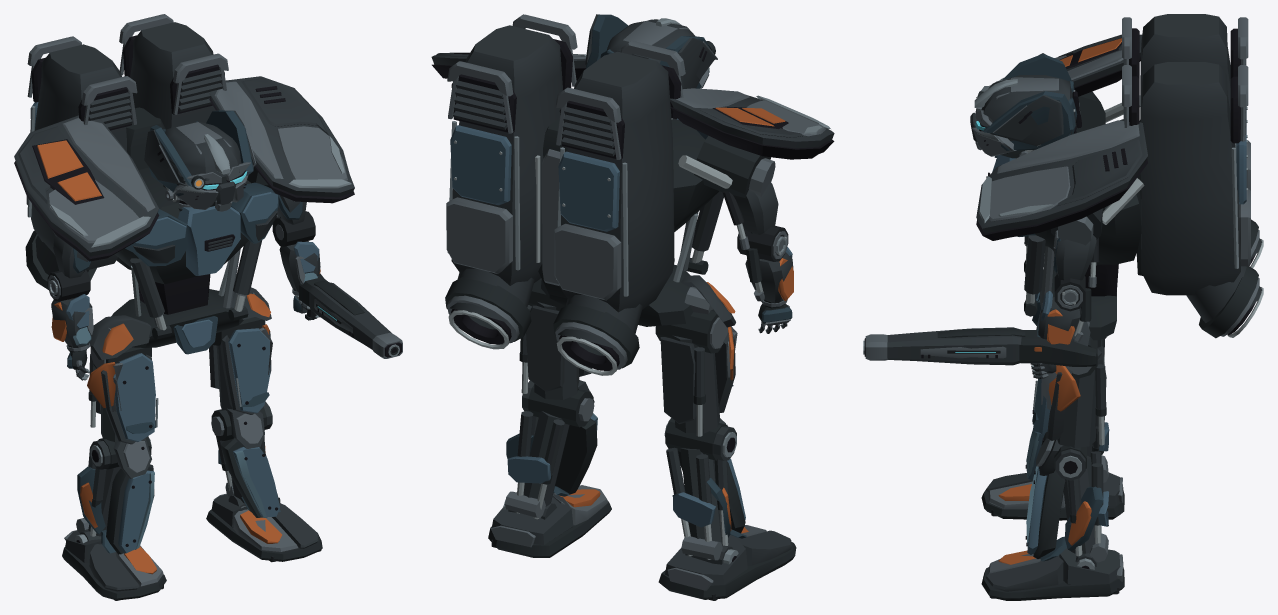
File: m07-cangyan-v5.glb
3 renders of one model, left to right at view 1: azimuth 30°, elevation 25°; view 2: azimuth 150°, elevation 25°; view 3: azimuth 270°, elevation 25°, orthographic. The views are drawn at different scales.
Parts seen in each view (by area): view 1: M07_Upper_armor, M07_Shin_L_armor, M07_Thigh_L_armor, M07_Shin_R_armor, M07_Thigh_R_armor, M07_Foot_R_armor, M07_Foot_L_armor, M07_Rifle_armor; view 2: M07_Upper_armor, M07_Shin_R_armor, M07_Shin_L_armor, M07_Thigh_L_armor, M07_Foot_L_armor, M07_Foot_R_armor, M07_Thigh_R_armor; view 3: M07_Upper_armor, M07_Shin_R_armor, M07_Rifle_armor, M07_Foot_R_armor, M07_Thigh_R_armor, M07_Foot_L_armor, M07_Shin_L_armor.
Part boxes in pixels (x1,y1,x2,y2): M07_Upper_armor: (14,14,354,380); M07_Shin_L_armor: (76,436,154,554); M07_Thigh_L_armor: (87,347,158,444); M07_Shin_R_armor: (211,401,279,517); M07_Thigh_R_armor: (209,317,272,414); M07_Foot_R_armor: (206,493,322,562); M07_Foot_L_armor: (62,529,166,600); M07_Rifle_armor: (293,274,402,358); M07_Upper_armor: (431,14,834,375); M07_Shin_R_armor: (504,380,597,519); M07_Shin_L_armor: (664,418,745,560); M07_Thigh_L_armor: (655,309,737,436); M07_Foot_L_armor: (658,525,796,600); M07_Foot_R_armor: (488,485,611,557); M07_Thigh_R_armor: (519,278,592,399); M07_Upper_armor: (970,14,1263,346); M07_Shin_R_armor: (1025,438,1108,562); M07_Rifle_armor: (863,327,1096,378); M07_Foot_R_armor: (981,536,1124,600); M07_Thigh_R_armor: (1032,336,1106,447); M07_Foot_L_armor: (981,472,1124,520); M07_Shin_L_armor: (1025,422,1109,482).
Bounding box in the file's own units: 11.12 × 16.57 × 12.14.
